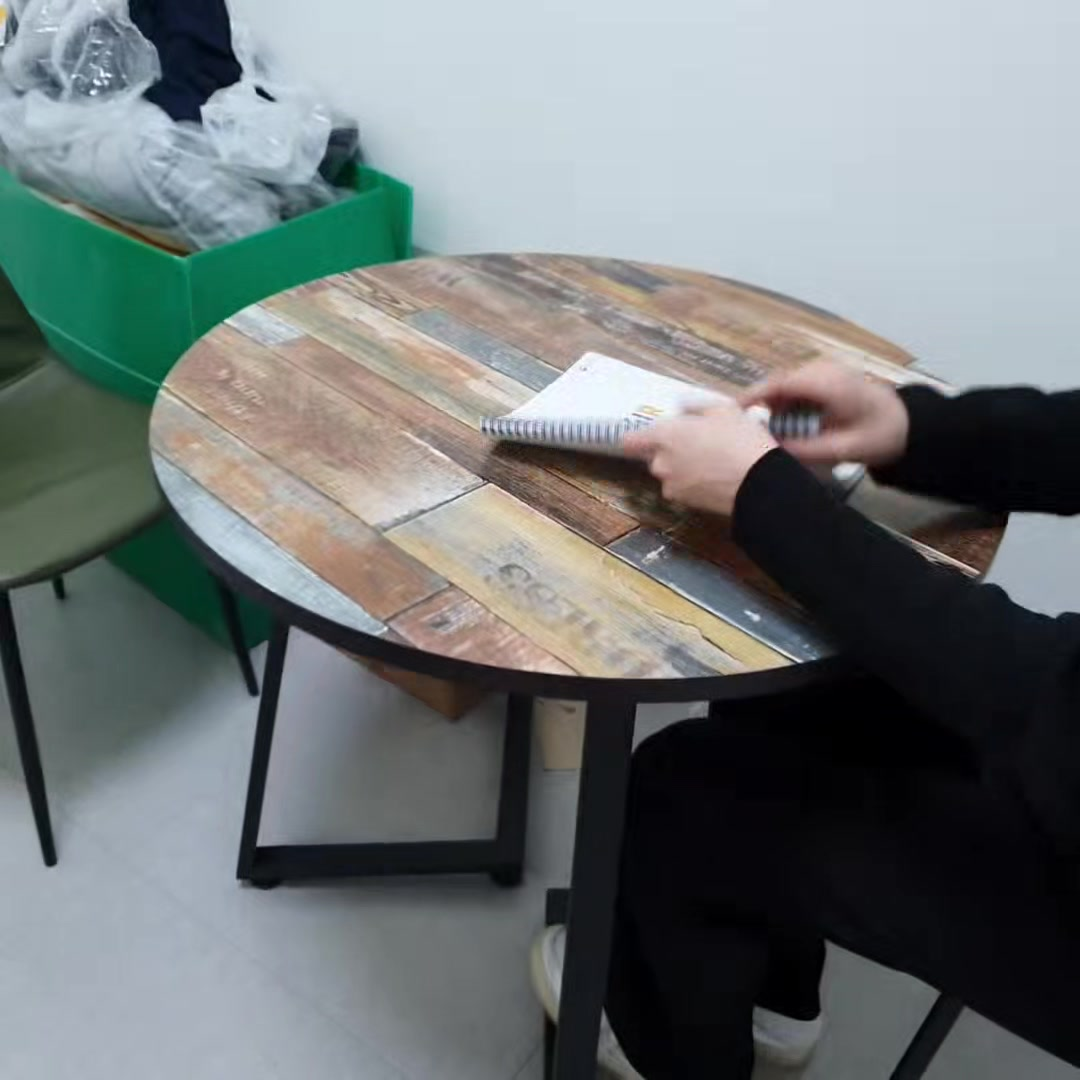book: (495, 359, 826, 454)
